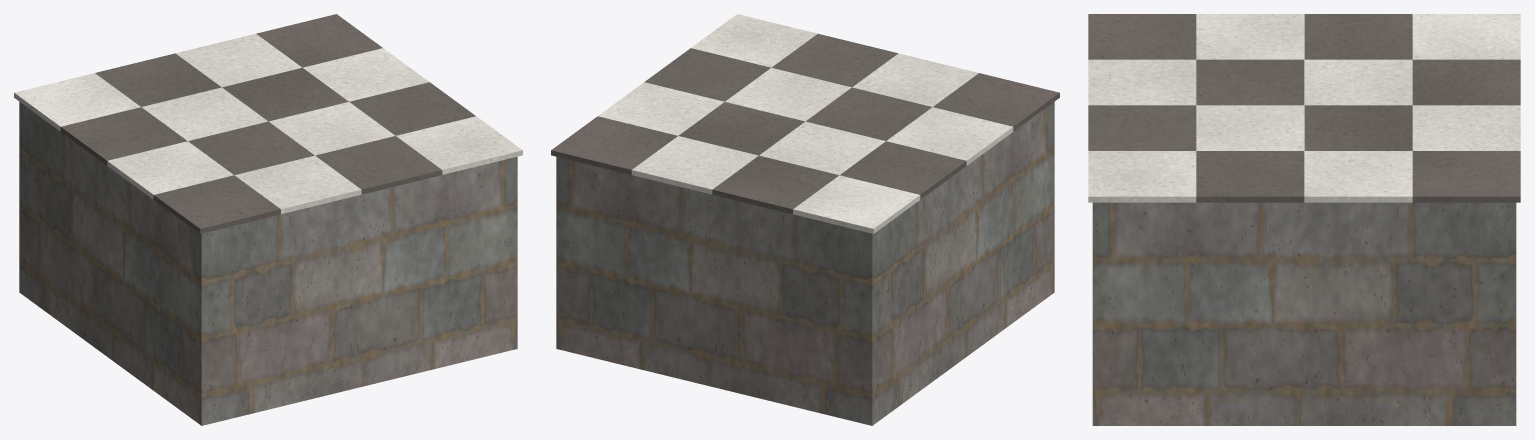
The model's file is floor_marble.glb.
3 renders of one model, left to right at view 1: azimuth 30°, elevation 25°; view 2: azimuth 150°, elevation 25°; view 3: azimuth 270°, elevation 25°, orthographic. The views are drawn at different scales.
Visible parts, largest first — view 1: floor_marble_granite, floor_marble_marble2, floor_marble_marble; view 2: floor_marble_granite, floor_marble_marble, floor_marble_marble2; view 3: floor_marble_granite, floor_marble_marble, floor_marble_marble2.
Boxes of the visible parts, box(x1,y1,x2,y2) form: floor_marble_granite: box(19, 102, 517, 425); floor_marble_marble2: box(60, 14, 475, 233); floor_marble_marble: box(14, 33, 522, 214); floor_marble_granite: box(556, 102, 1054, 425); floor_marble_marble: box(598, 14, 1013, 233); floor_marble_marble2: box(551, 33, 1059, 214); floor_marble_granite: box(1092, 202, 1516, 425); floor_marble_marble: box(1088, 14, 1520, 202); floor_marble_marble2: box(1088, 14, 1520, 202).
Bounding box in the file's own units: 2 × 1.18 × 2.
3 materials, 3 textured.
